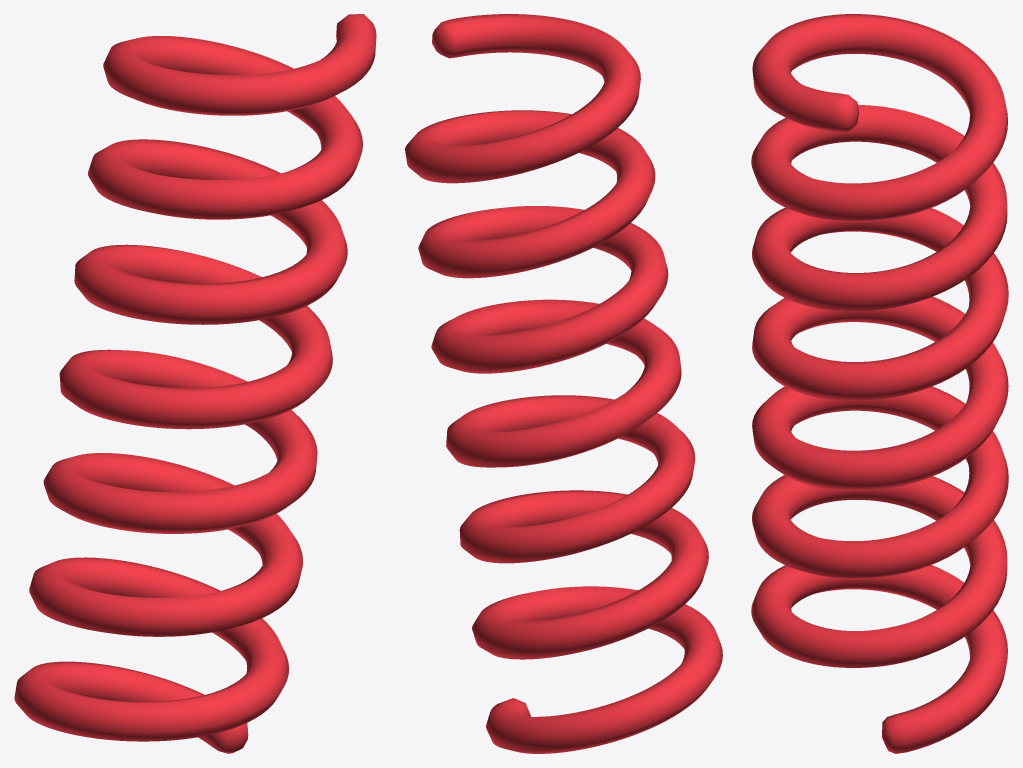
File: GEO_Suspension_RR_Coilover_Spring.glb
3 renders of one model, left to right at view 1: azimuth 30°, elevation 25°; view 2: azimuth 150°, elevation 25°; view 3: azimuth 270°, elevation 25°, orthographic. The views are drawn at different scales.
Visible parts, largest first — view 1: GEO_Suspension_RR_Coilover_Spring; view 2: GEO_Suspension_RR_Coilover_Spring; view 3: GEO_Suspension_RR_Coilover_Spring.
Boxes of the visible parts, bbox=[...] form: GEO_Suspension_RR_Coilover_Spring: bbox=[14, 14, 376, 753]; GEO_Suspension_RR_Coilover_Spring: bbox=[405, 14, 722, 753]; GEO_Suspension_RR_Coilover_Spring: bbox=[751, 14, 1008, 753].
Bounding box in the file's own units: 0.1478 × 0.3246 × 0.1081.
